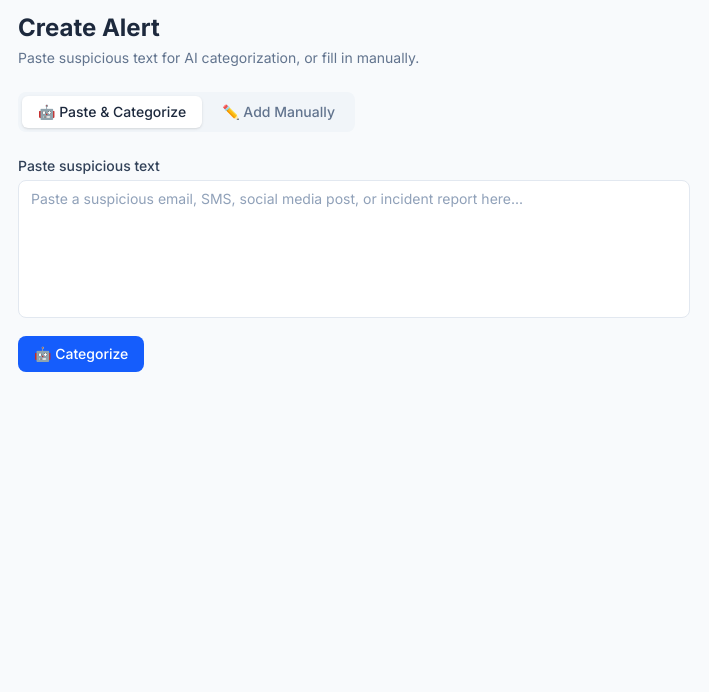
Edge Cases — Validation › shows validation error when title is too short
This screenshot has width=709, height=692.
# Switch to manual tab
Click the button "✏️ Add Manually" at x=279, y=112, box [206,96,351,128]
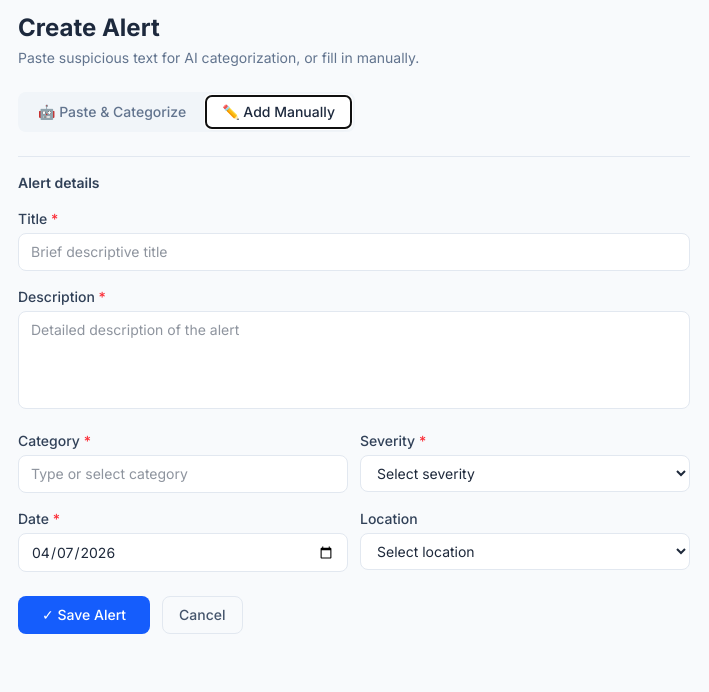
# Type a too-short title
Type "Hi" into the field with placeholder "Brief descriptive title" at x=354, y=252, box [18,233,690,271]
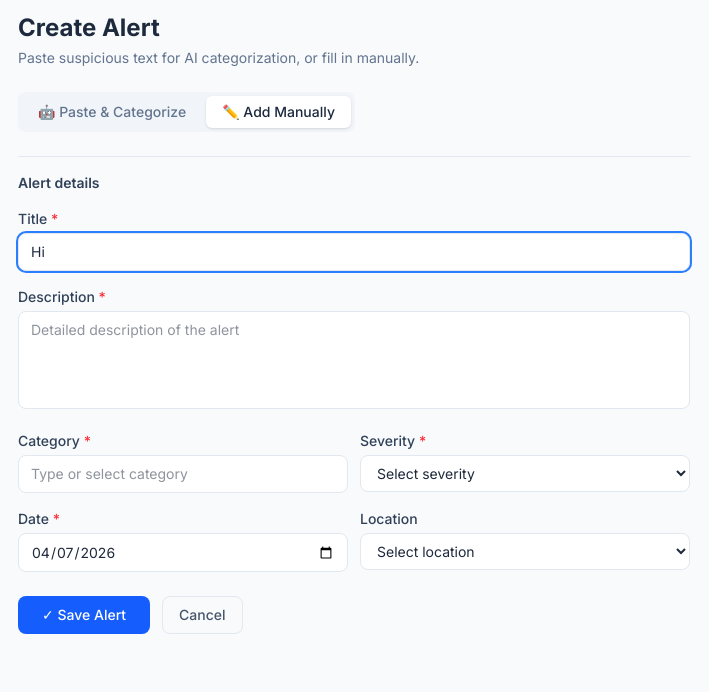
# Type valid description
Type "This is a long enough description for the test." into the text box with placeholder "Detailed description of the alert" at x=354, y=360, box [18,311,690,409]
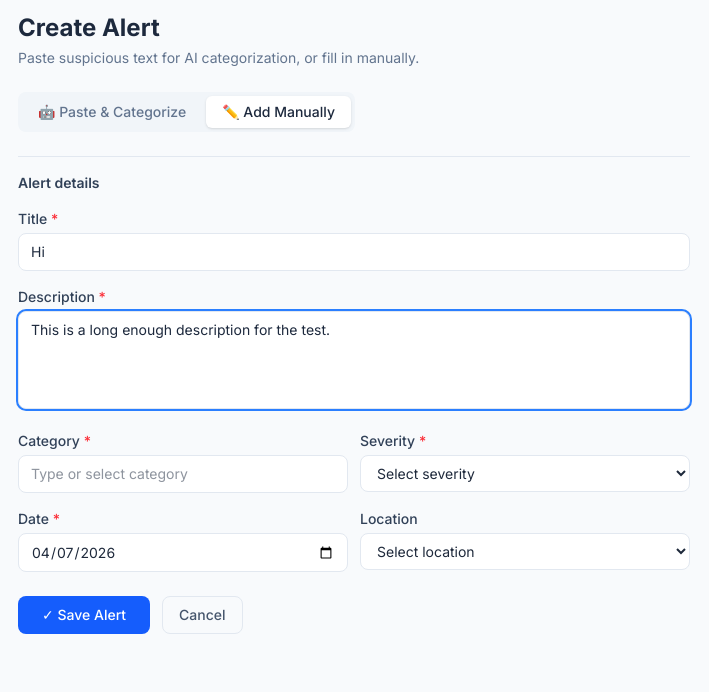
# Try to save
Click the button "✓ Save Alert" at x=84, y=615, box [18,596,150,634]
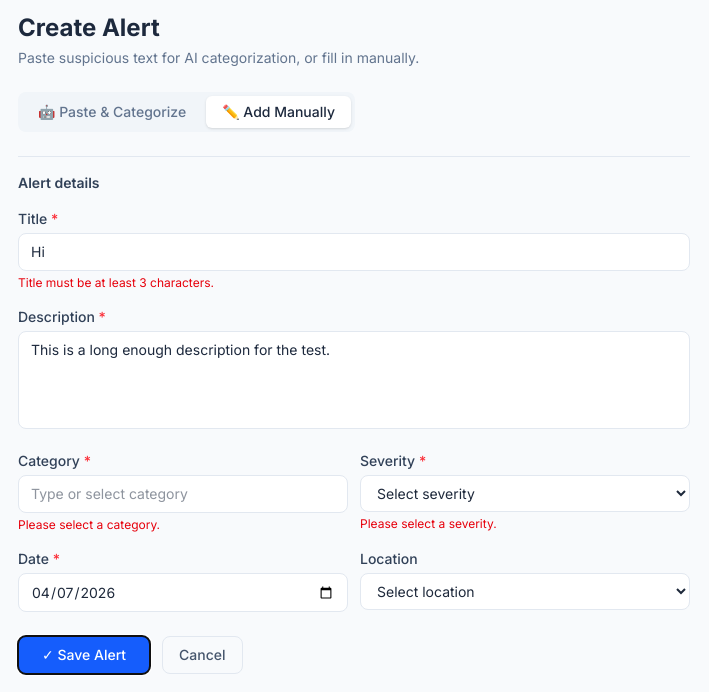
Expected: the text "Title must be at least 3 characters." is shown, [18,275,214,290]
